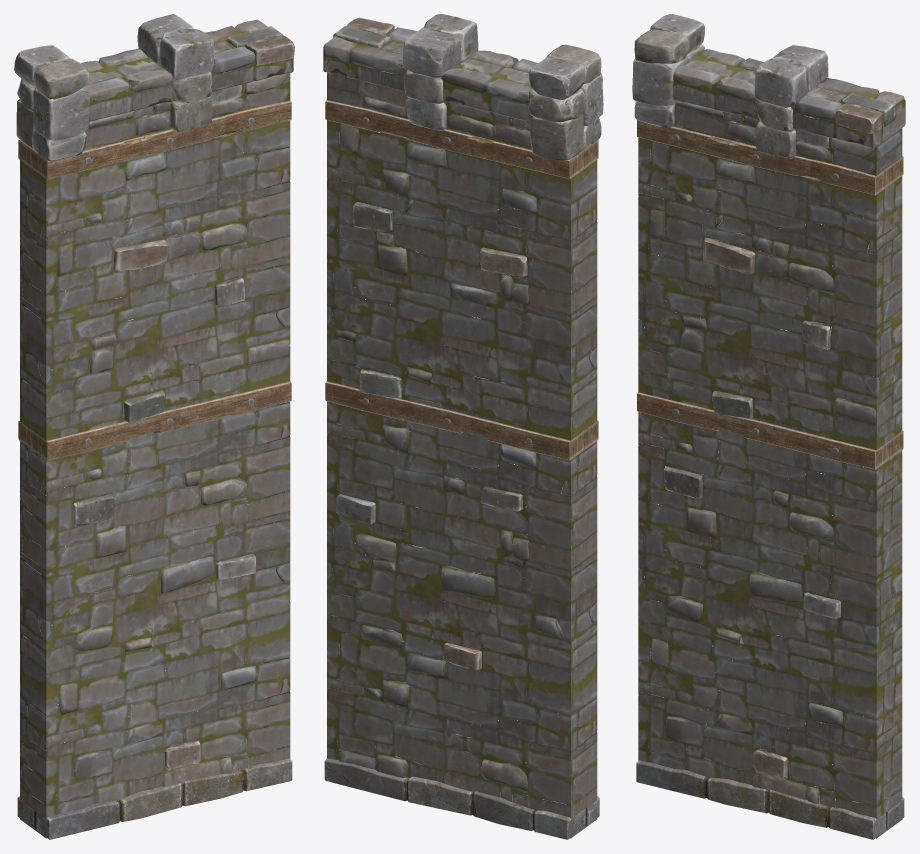
The picture shows the model from 3 angles, left to right: view 1: azimuth 30°, elevation 25°; view 2: azimuth 150°, elevation 25°; view 3: azimuth 330°, elevation 25°; orthographic projection. The views are drawn at different scales.
Parts seen in each view (by area): view 1: SM_Castle_Wall_4x12_01_v3_LOD0; view 2: SM_Castle_Wall_4x12_01_v3_LOD0; view 3: SM_Castle_Wall_4x12_01_v3_LOD0.
Part boxes in pixels (bbox=[...]): SM_Castle_Wall_4x12_01_v3_LOD0: bbox=[14, 14, 294, 839]; SM_Castle_Wall_4x12_01_v3_LOD0: bbox=[323, 14, 603, 839]; SM_Castle_Wall_4x12_01_v3_LOD0: bbox=[632, 14, 905, 839].
Bounding box in the file's own units: 4.06 × 11.97 × 1.1.
6 materials, 6 textured.
